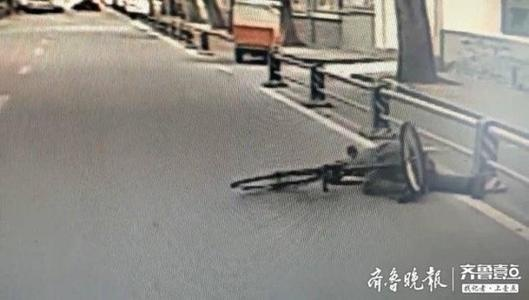falling: (305, 126, 508, 207)
